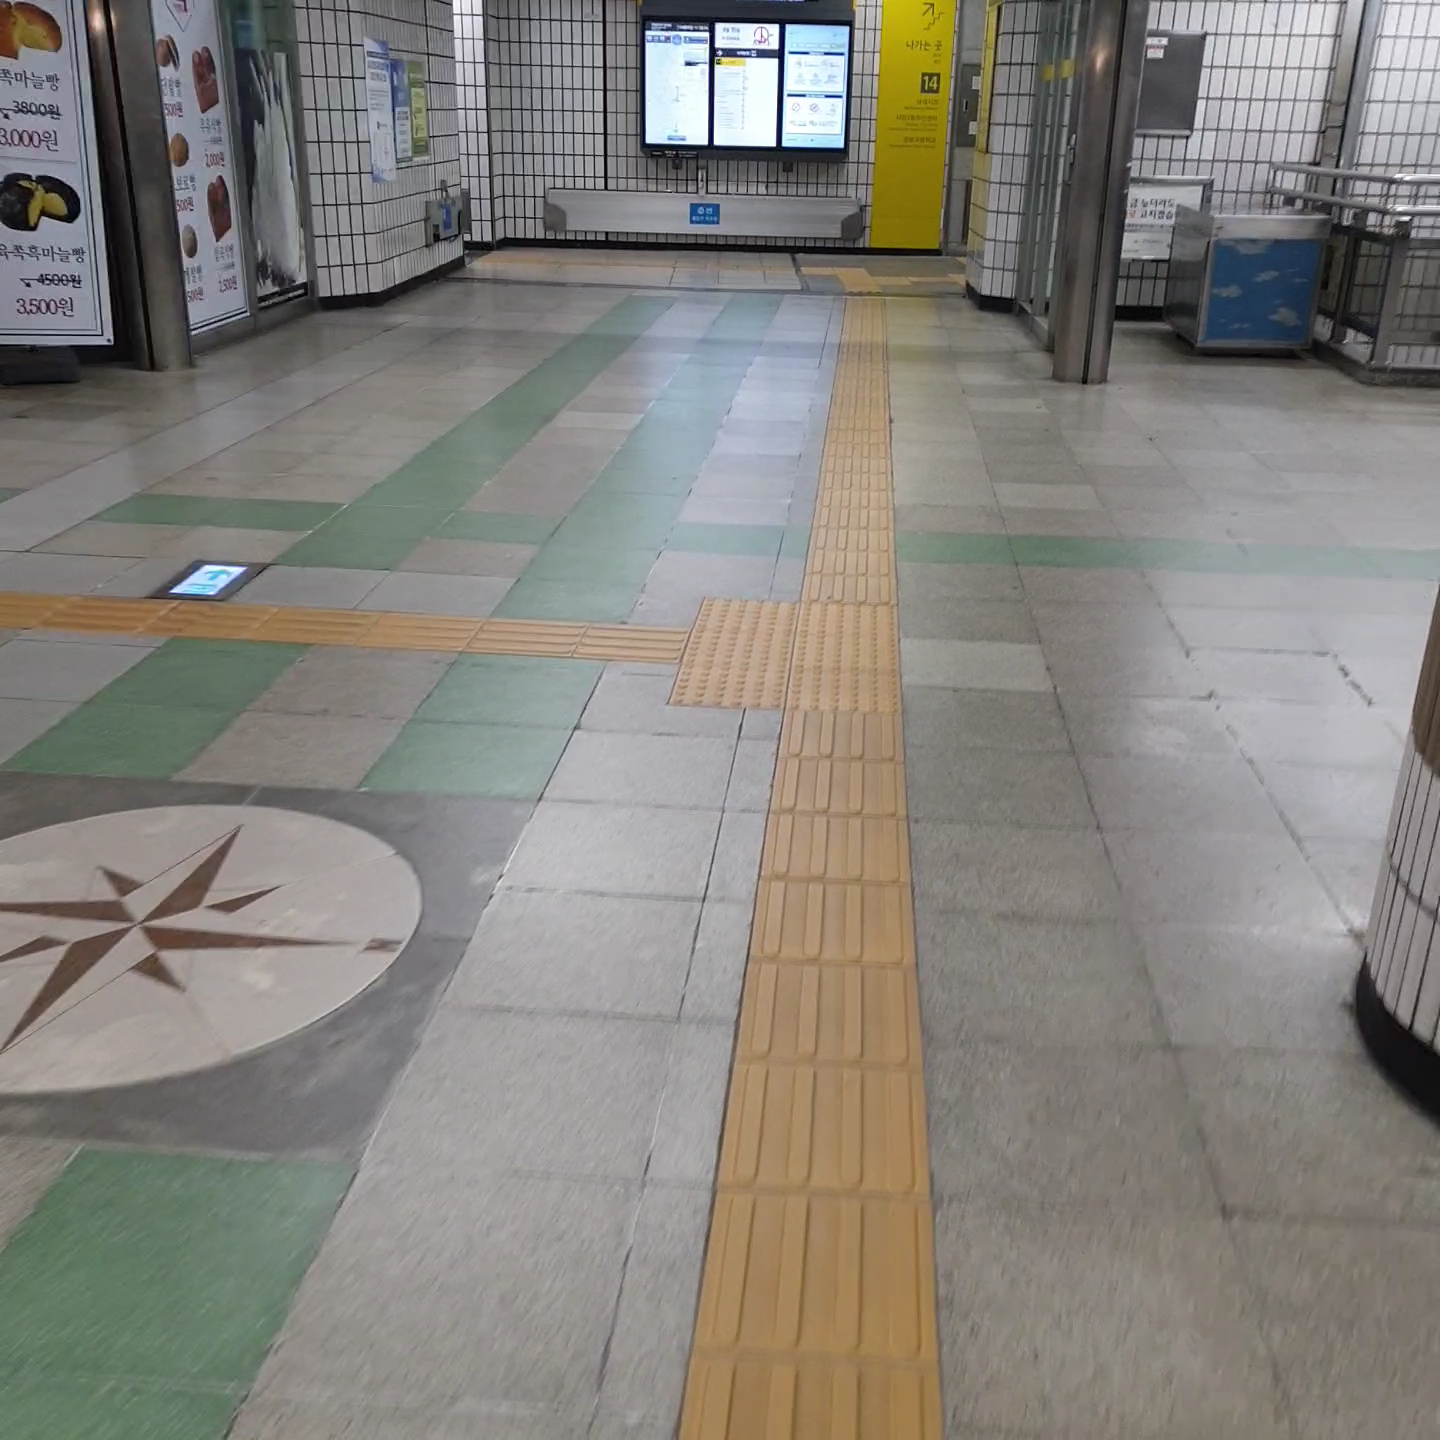dot: (679, 666, 786, 708), (793, 671, 906, 711), (691, 629, 793, 669), (800, 636, 895, 675), (698, 597, 793, 636), (800, 603, 895, 640)
line: (715, 1189, 940, 1362), (731, 1062, 931, 1199), (744, 965, 920, 1065), (756, 872, 916, 969), (767, 815, 907, 881), (774, 756, 905, 815), (785, 709, 905, 762), (583, 617, 686, 665), (468, 620, 579, 662), (375, 615, 473, 650), (268, 609, 364, 645), (804, 572, 895, 605), (804, 526, 895, 554), (810, 551, 894, 578), (816, 505, 895, 530)
